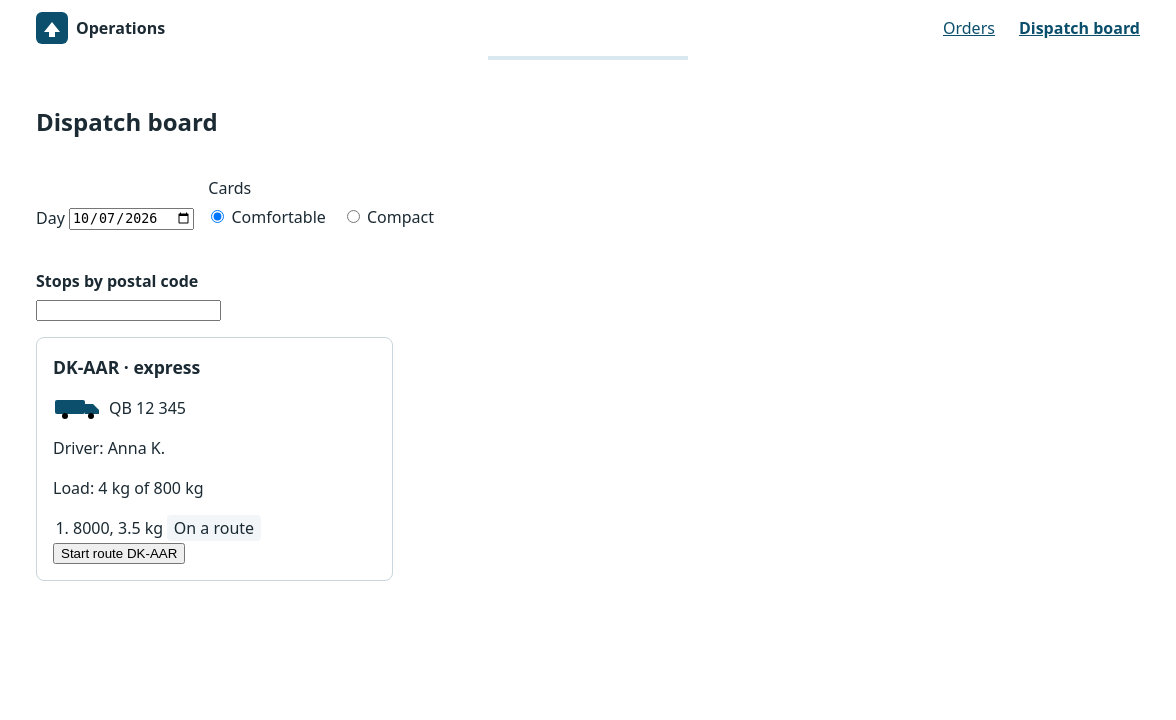
Test: dispatch board › shows why a route could not start
Click the button "Start route DK-AAR" at (119, 554), box [53,543,185,564]
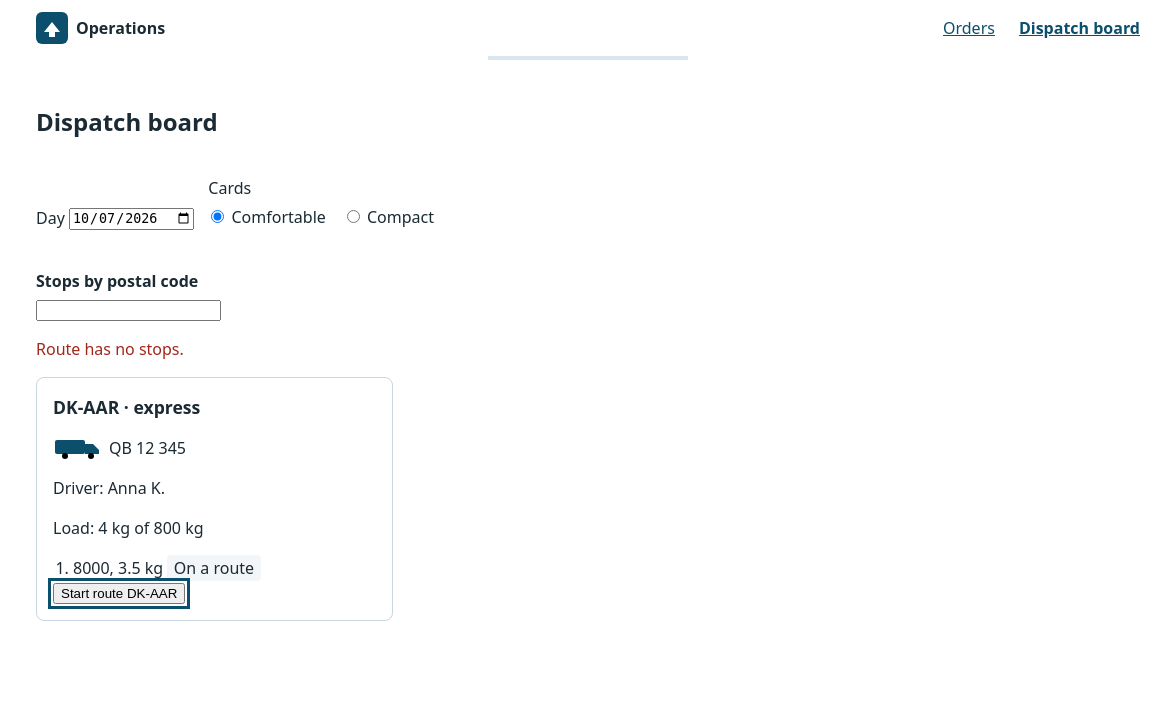
Now the message reads "Route has no stops.", box [36,338,184,360]
